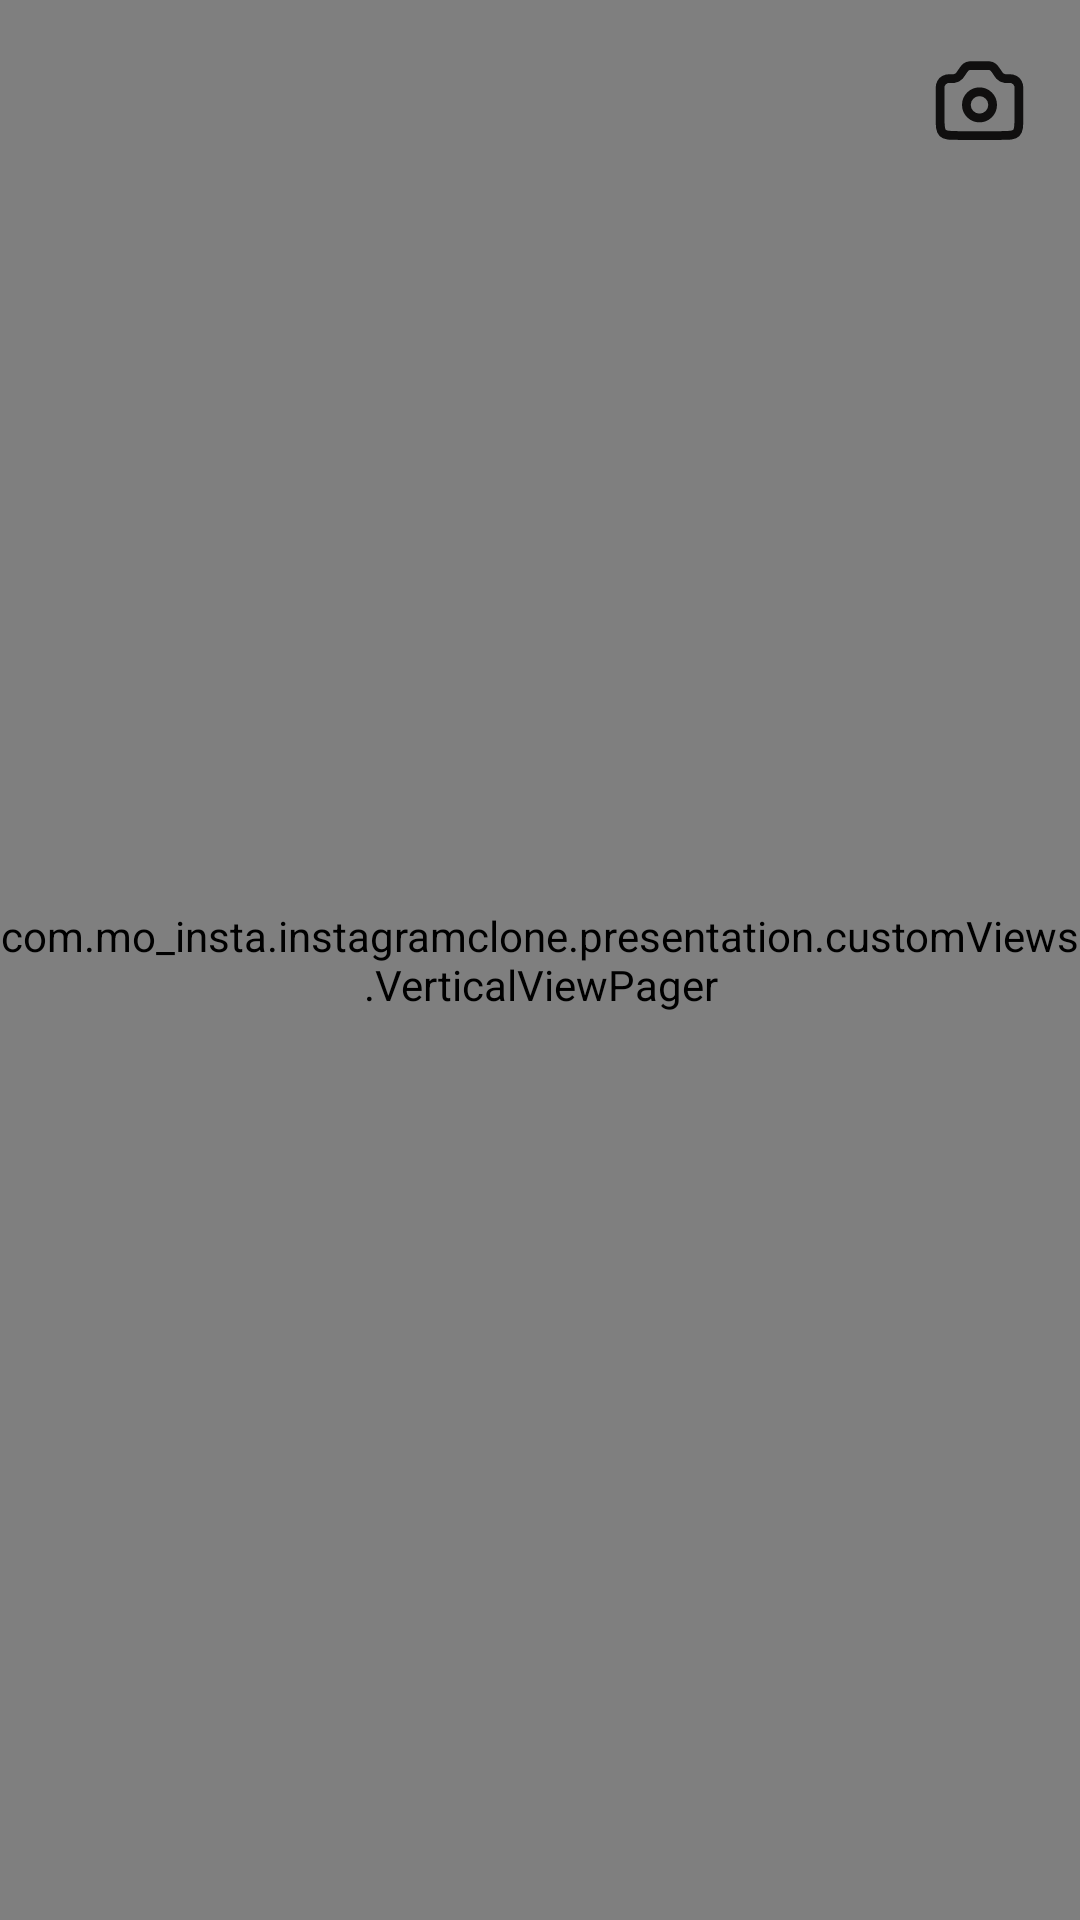

Screen size 1080x1920. Icon name, then its box in pixels as (x1, y1, x2, y2):
camera: (935, 61, 1024, 140)
